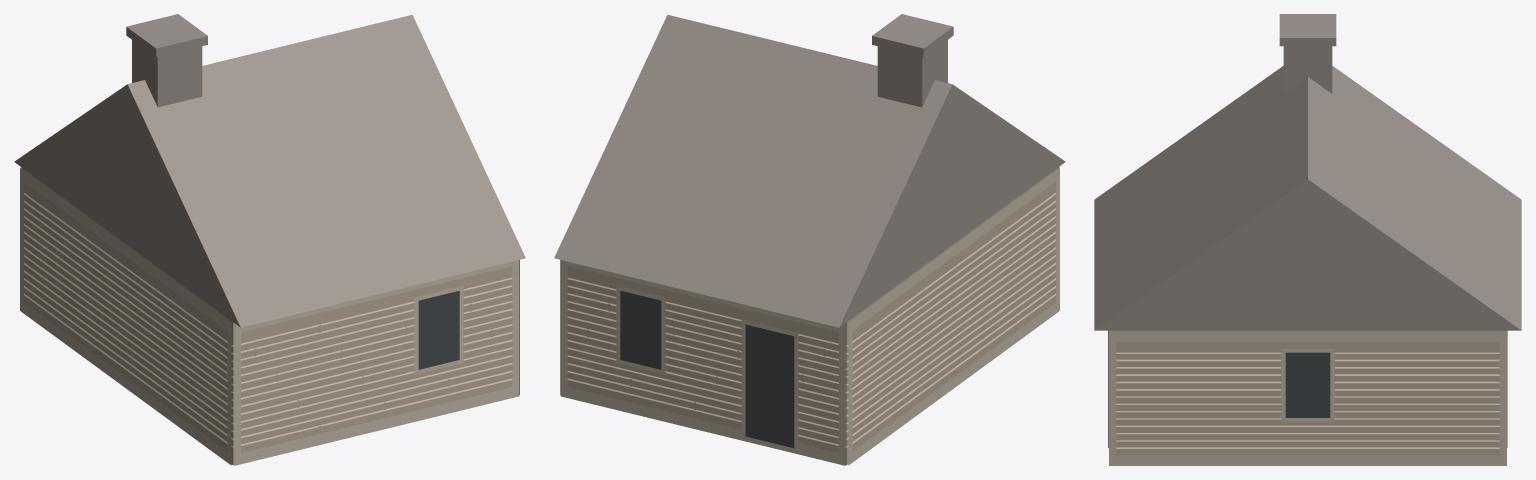
File: recon_1835_blk_south_water_clark_d3_03__inferred_1835.glb
3 renders of one model, left to right at view 1: azimuth 30°, elevation 25°; view 2: azimuth 150°, elevation 25°; view 3: azimuth 270°, elevation 25°, orthographic. The views are drawn at different scales.
Parts seen in each view (by area): view 1: recon_1835_blk_south_water_clark_d3_03__inferred_1835; view 2: recon_1835_blk_south_water_clark_d3_03__inferred_1835; view 3: recon_1835_blk_south_water_clark_d3_03__inferred_1835.
Part boxes in pixels (x1=…): recon_1835_blk_south_water_clark_d3_03__inferred_1835: x1=14, y1=14, x2=525, y2=465; recon_1835_blk_south_water_clark_d3_03__inferred_1835: x1=554, y1=14, x2=1065, y2=465; recon_1835_blk_south_water_clark_d3_03__inferred_1835: x1=1094, y1=14, x2=1521, y2=465.
Size of the model in its own units: 5.46 by 6.26 by 7.42.
